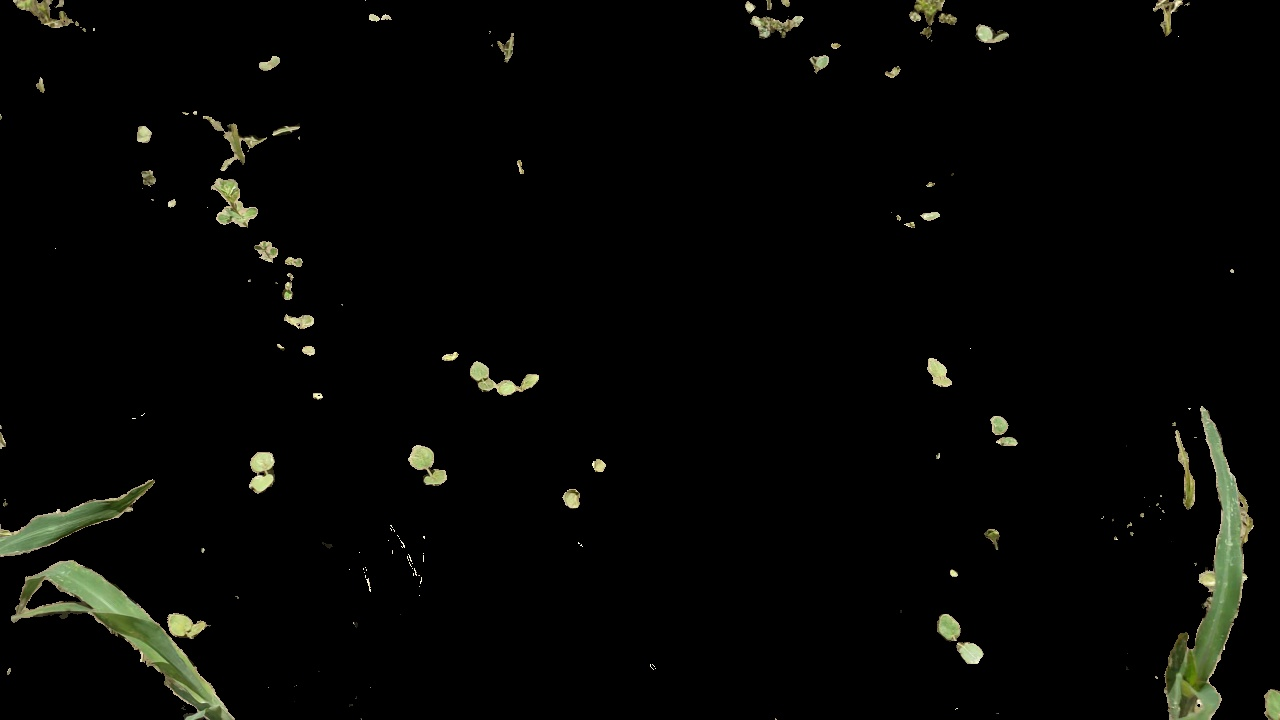crop: (1122, 378, 1261, 717), (3, 461, 162, 719)
weed: (187, 109, 308, 172), (930, 601, 990, 671), (469, 355, 543, 400), (210, 178, 264, 233), (403, 440, 452, 492), (732, 11, 811, 43), (908, 1, 954, 45), (246, 445, 282, 495), (920, 349, 955, 396), (168, 607, 212, 639), (986, 410, 1020, 447), (973, 23, 1013, 51), (246, 244, 284, 267), (279, 309, 317, 329)
